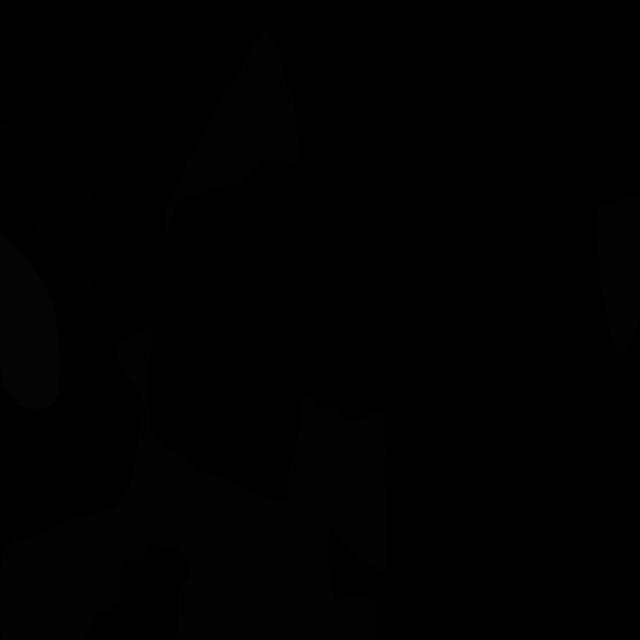cardboard: (99, 325, 377, 640), (165, 26, 301, 241), (0, 508, 114, 640), (316, 407, 388, 573), (596, 192, 640, 352)
rigid_plastic: (0, 121, 100, 301)
soft_plastic: (0, 231, 60, 409)
